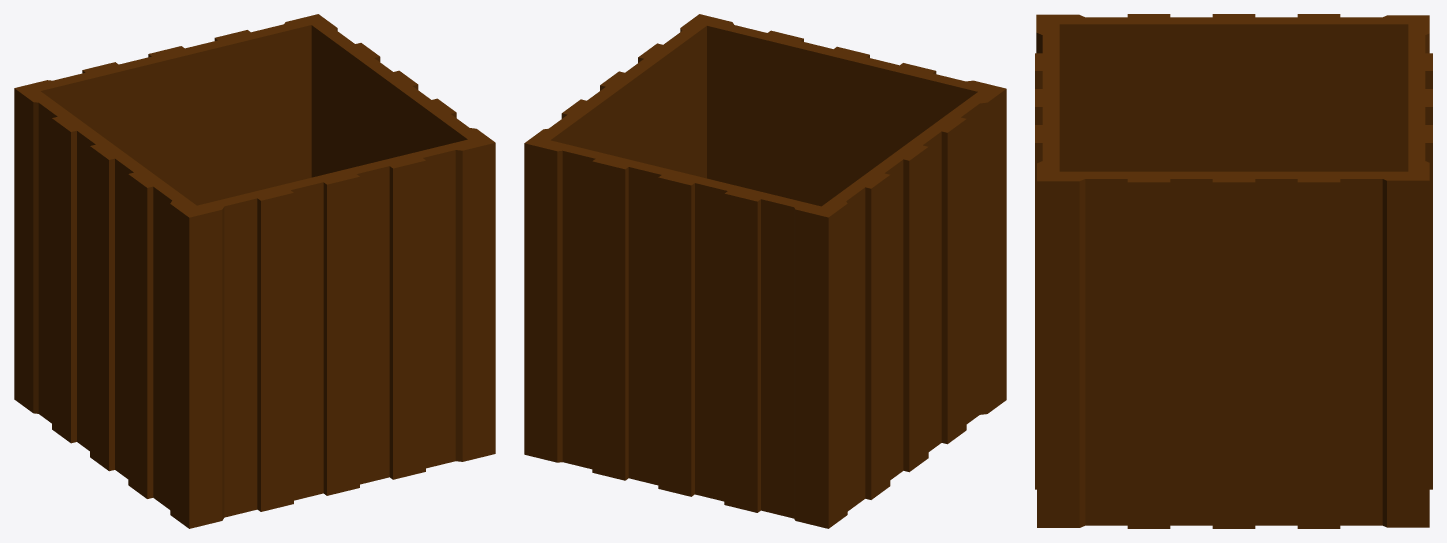
Rendered from woodBox.fbx.
3 views of the same model, side by side, from view 1: azimuth 30°, elevation 25°; view 2: azimuth 150°, elevation 25°; view 3: azimuth 270°, elevation 25° (orthographic). The views are drawn at different scales.
Visible parts, largest first — view 1: Cube; view 2: Cube; view 3: Cube.
Boxes of the visible parts, <box> form: Cube: <box>14,14,495,528</box>; Cube: <box>524,14,1006,528</box>; Cube: <box>1035,14,1432,528</box>.
Bounding box in the file's own units: 208 × 200 × 208.
